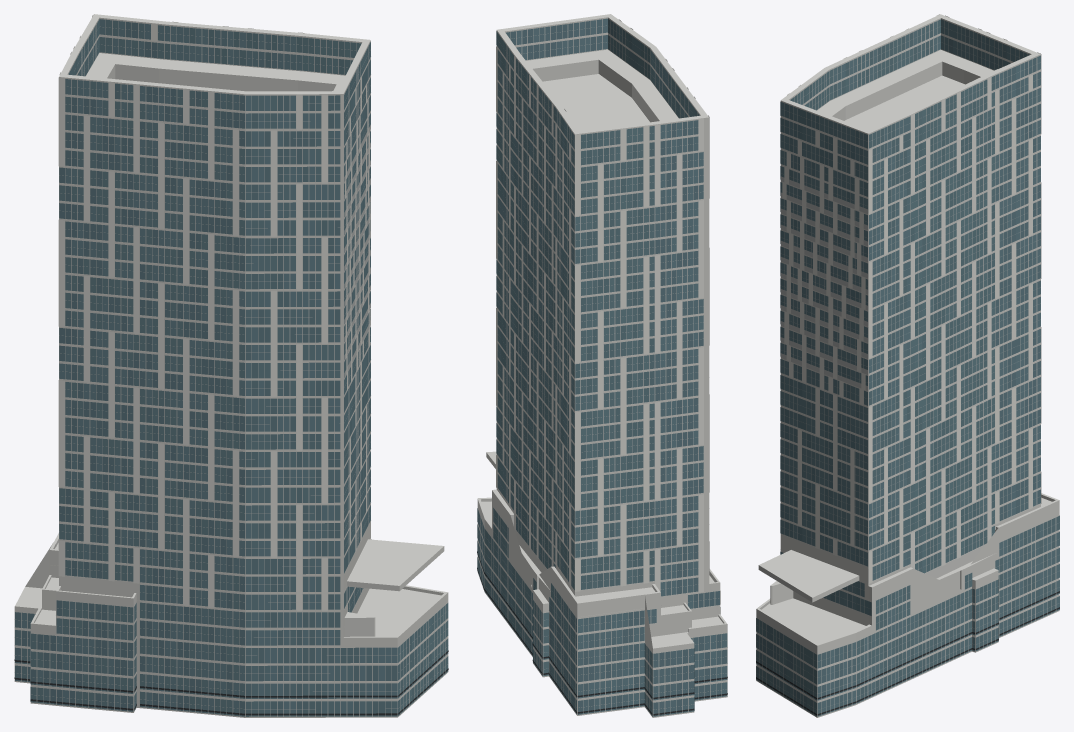
File: stream.glb
3 renders of one model, left to right at view 1: azimuth 30°, elevation 25°; view 2: azimuth 150°, elevation 25°; view 3: azimuth 270°, elevation 25°, orthographic. The views are drawn at different scales.
Visible parts, largest first — view 1: stream_wall, stream_glass2, stream_glass1, stream_glass0, stream_spandrel, stream_frame, stream_roof, stream_sign_housing; view 2: stream_wall, stream_glass1, stream_glass0, stream_glass2, stream_spandrel, stream_frame, stream_roof, stream_sign_housing; view 3: stream_wall, stream_glass1, stream_glass0, stream_glass2, stream_spandrel, stream_frame, stream_roof, stream_sign_housing.
Boxes of the visible parts, bbox=[...] form: stream_wall: bbox=[14, 17, 448, 717]; stream_glass2: bbox=[21, 19, 448, 716]; stream_glass1: bbox=[15, 19, 448, 716]; stream_glass0: bbox=[15, 22, 445, 716]; stream_spandrel: bbox=[15, 15, 448, 717]; stream_frame: bbox=[14, 20, 448, 716]; stream_roof: bbox=[15, 14, 447, 637]; stream_sign_housing: bbox=[14, 650, 448, 715]; stream_wall: bbox=[477, 17, 727, 717]; stream_glass1: bbox=[477, 19, 721, 715]; stream_glass0: bbox=[477, 19, 727, 716]; stream_glass2: bbox=[479, 18, 727, 716]; stream_spandrel: bbox=[484, 19, 726, 717]; stream_frame: bbox=[482, 19, 726, 715]; stream_roof: bbox=[477, 14, 726, 648]; stream_sign_housing: bbox=[477, 551, 727, 715]; stream_wall: bbox=[756, 18, 1059, 717]; stream_glass1: bbox=[763, 19, 1059, 716]; stream_glass0: bbox=[756, 23, 1059, 716]; stream_glass2: bbox=[756, 21, 1059, 712]; stream_spandrel: bbox=[756, 14, 1059, 716]; stream_frame: bbox=[756, 23, 1059, 709]; stream_roof: bbox=[756, 14, 1059, 645]; stream_sign_housing: bbox=[756, 591, 1059, 715].
Size of the model in its own units: 105 by 182 by 88.93.
